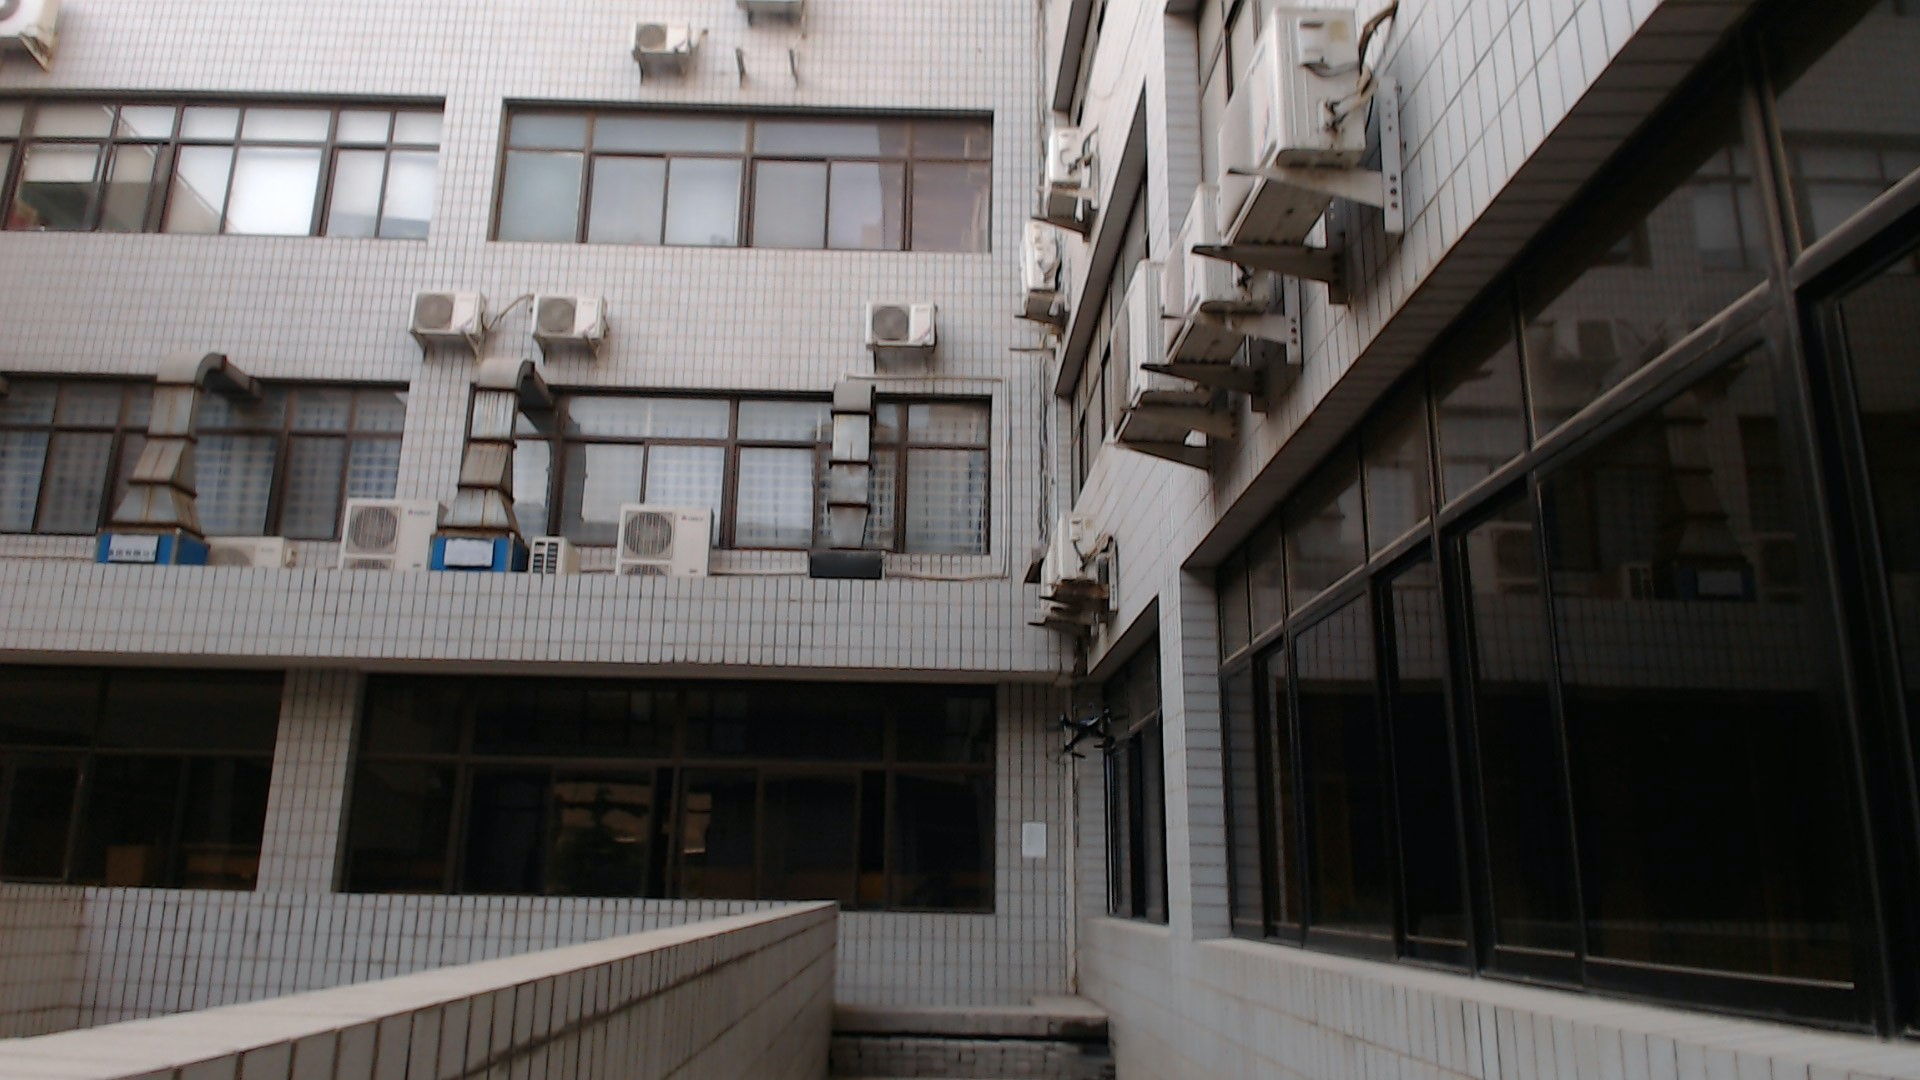drone: (1025, 682, 1150, 771)
